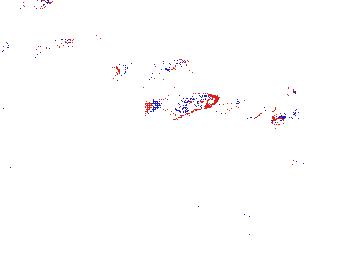red belly glassfish: (269, 110, 298, 127), (285, 151, 304, 169)
redtail glassfish: (108, 54, 191, 84), (224, 85, 299, 117), (1, 34, 76, 64), (142, 92, 219, 118), (1, 1, 53, 15)
